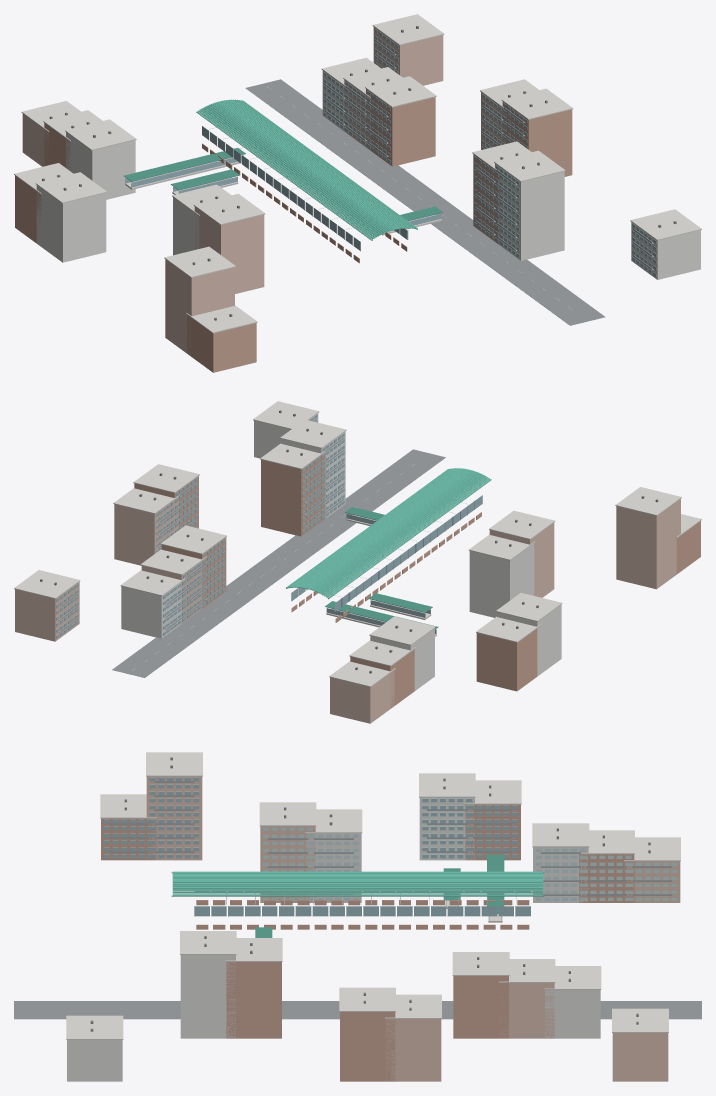
3 views of the same model, one above another, from view 1: azimuth 30°, elevation 25°; view 2: azimuth 150°, elevation 25°; view 3: azimuth 270°, elevation 25° (orthographic). The views are drawn at different scales.
Visible parts, largest first — view 1: Station 14 photo-informed architecture and surroundings; view 2: Station 14 photo-informed architecture and surroundings; view 3: Station 14 photo-informed architecture and surroundings.
Boxes of the visible parts, box(x1,y1,x2,y2) form: Station 14 photo-informed architecture and surroundings: box(14, 14, 701, 372); Station 14 photo-informed architecture and surroundings: box(14, 401, 701, 723); Station 14 photo-informed architecture and surroundings: box(14, 752, 701, 1081).
Size of the model in its own units: 240 by 39.9 by 285.
